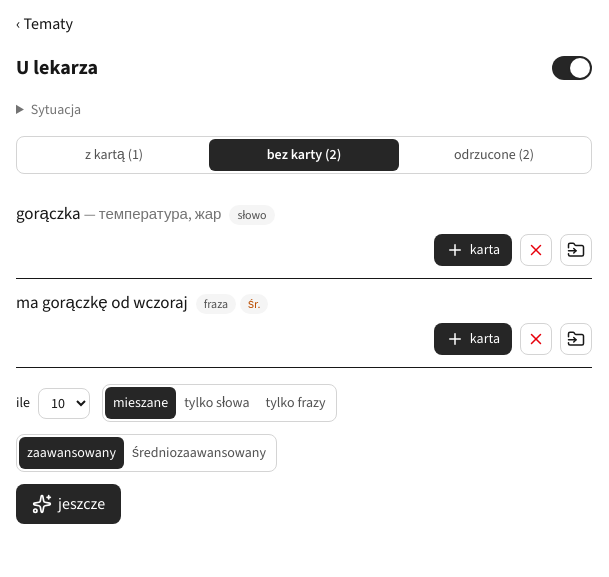
Test: TopicPage › shows a save error when a rename fails with a non-2xx status
Replace the text in the field showing "U lekarza" with "Nowa nazwa" at (278, 68), box [16, 54, 540, 82]
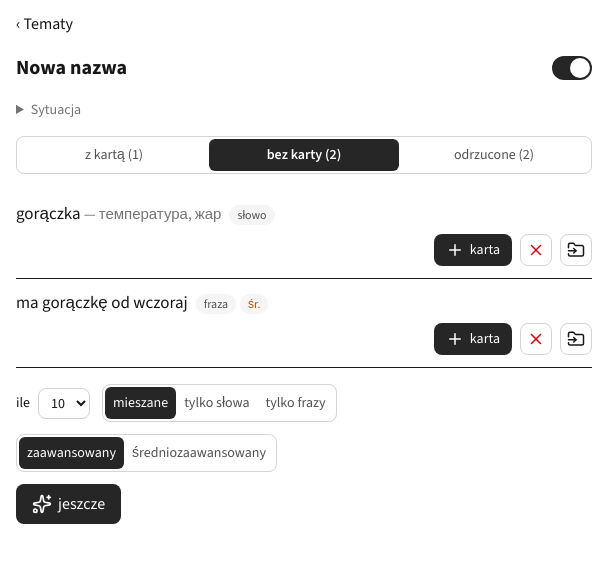
Leave the field showing "U lekarza", box [16, 54, 540, 82]
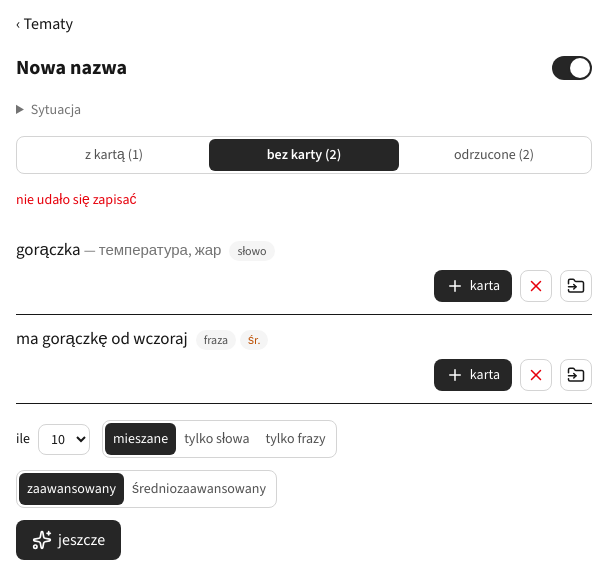
Expected: the text "nie udało się zapisać" is shown, [16, 190, 136, 209]
